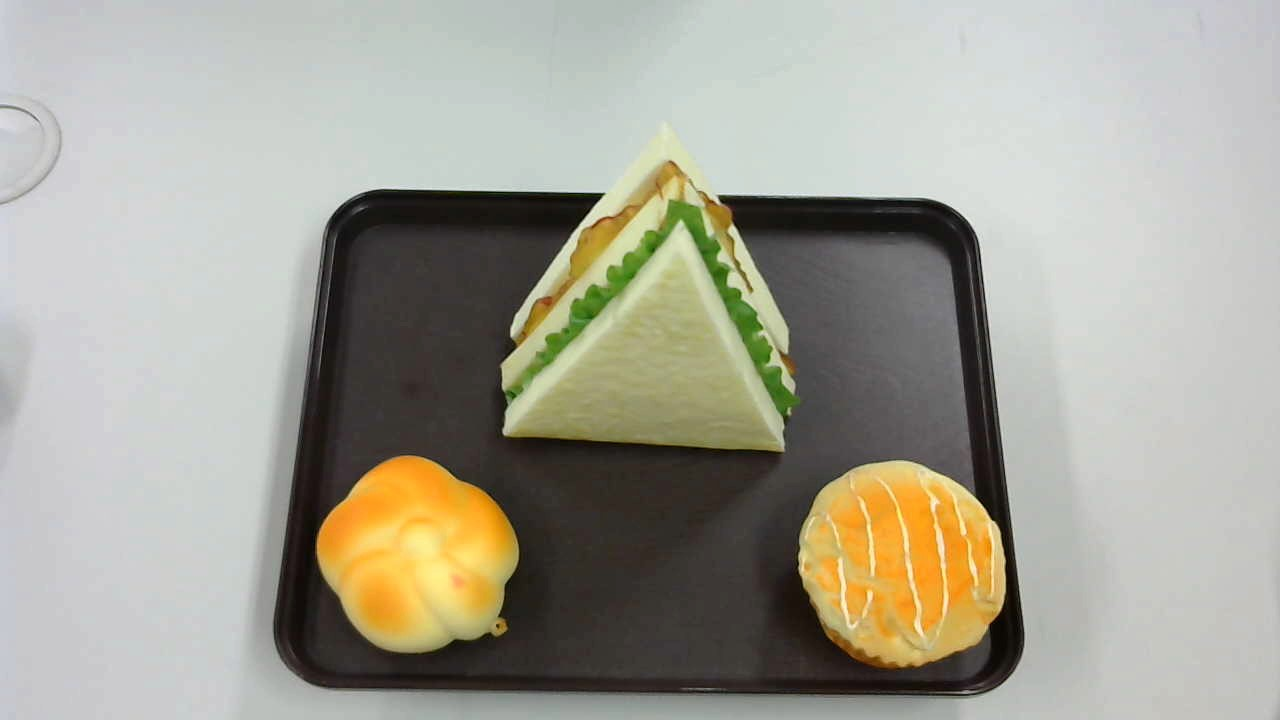cupcake: (797, 459, 1007, 669)
sandwich: (501, 121, 800, 454)
twist bread: (317, 454, 520, 651)
